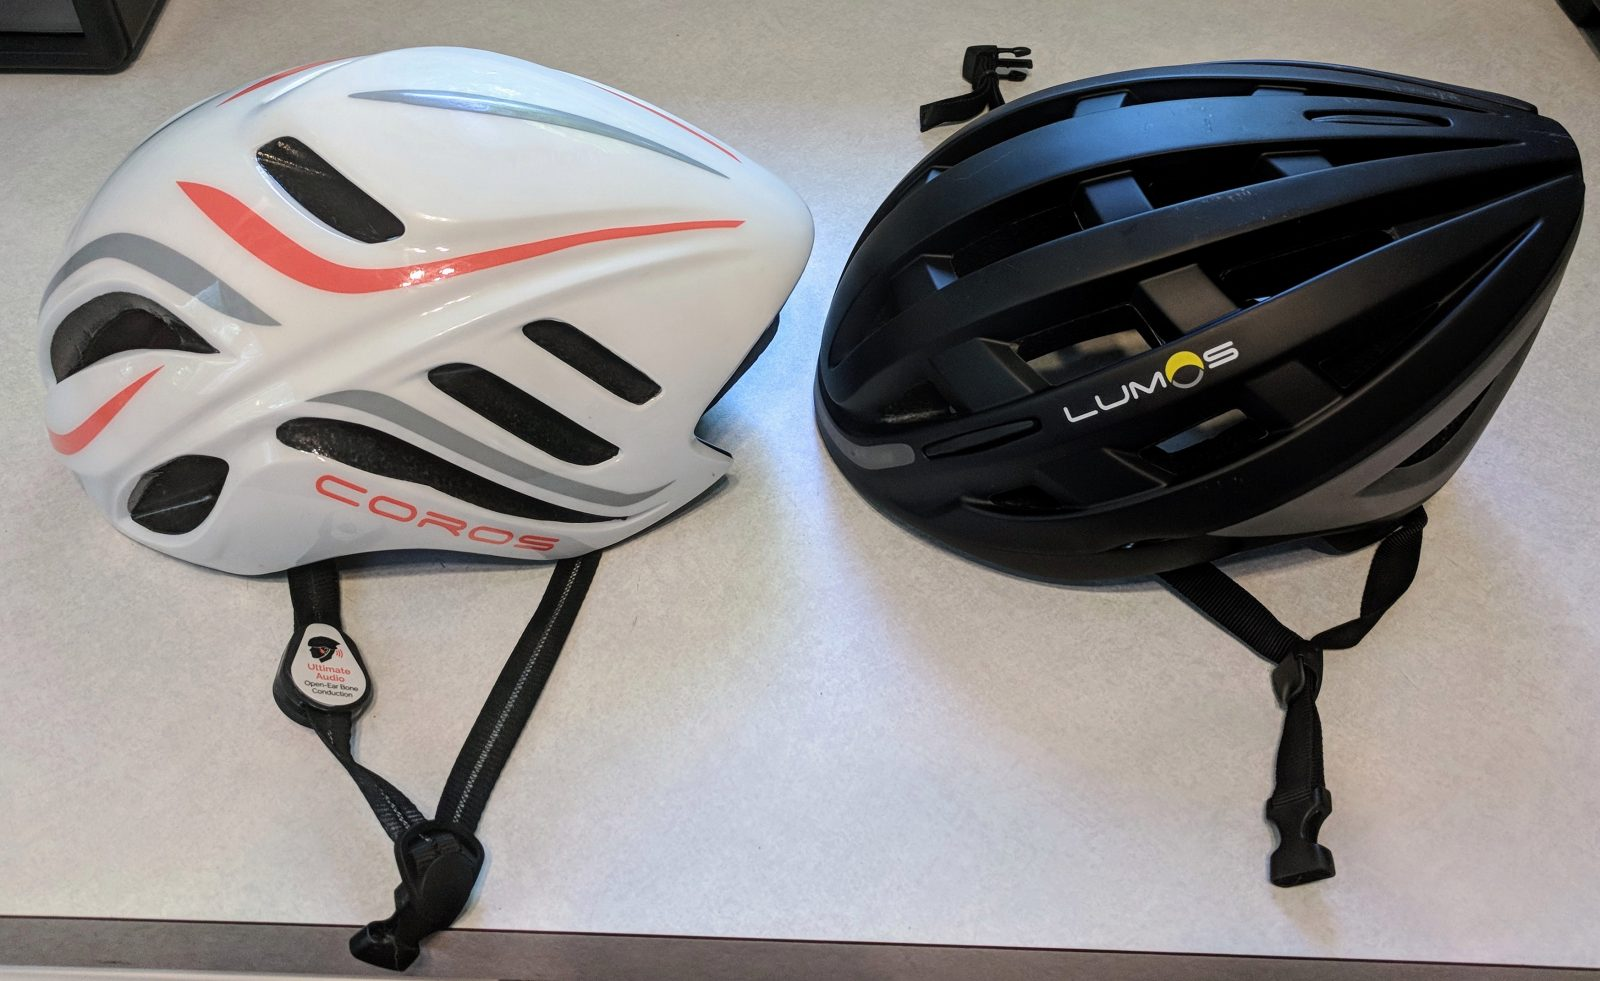with_helmet: (19, 35, 817, 598), (817, 27, 1587, 606)
